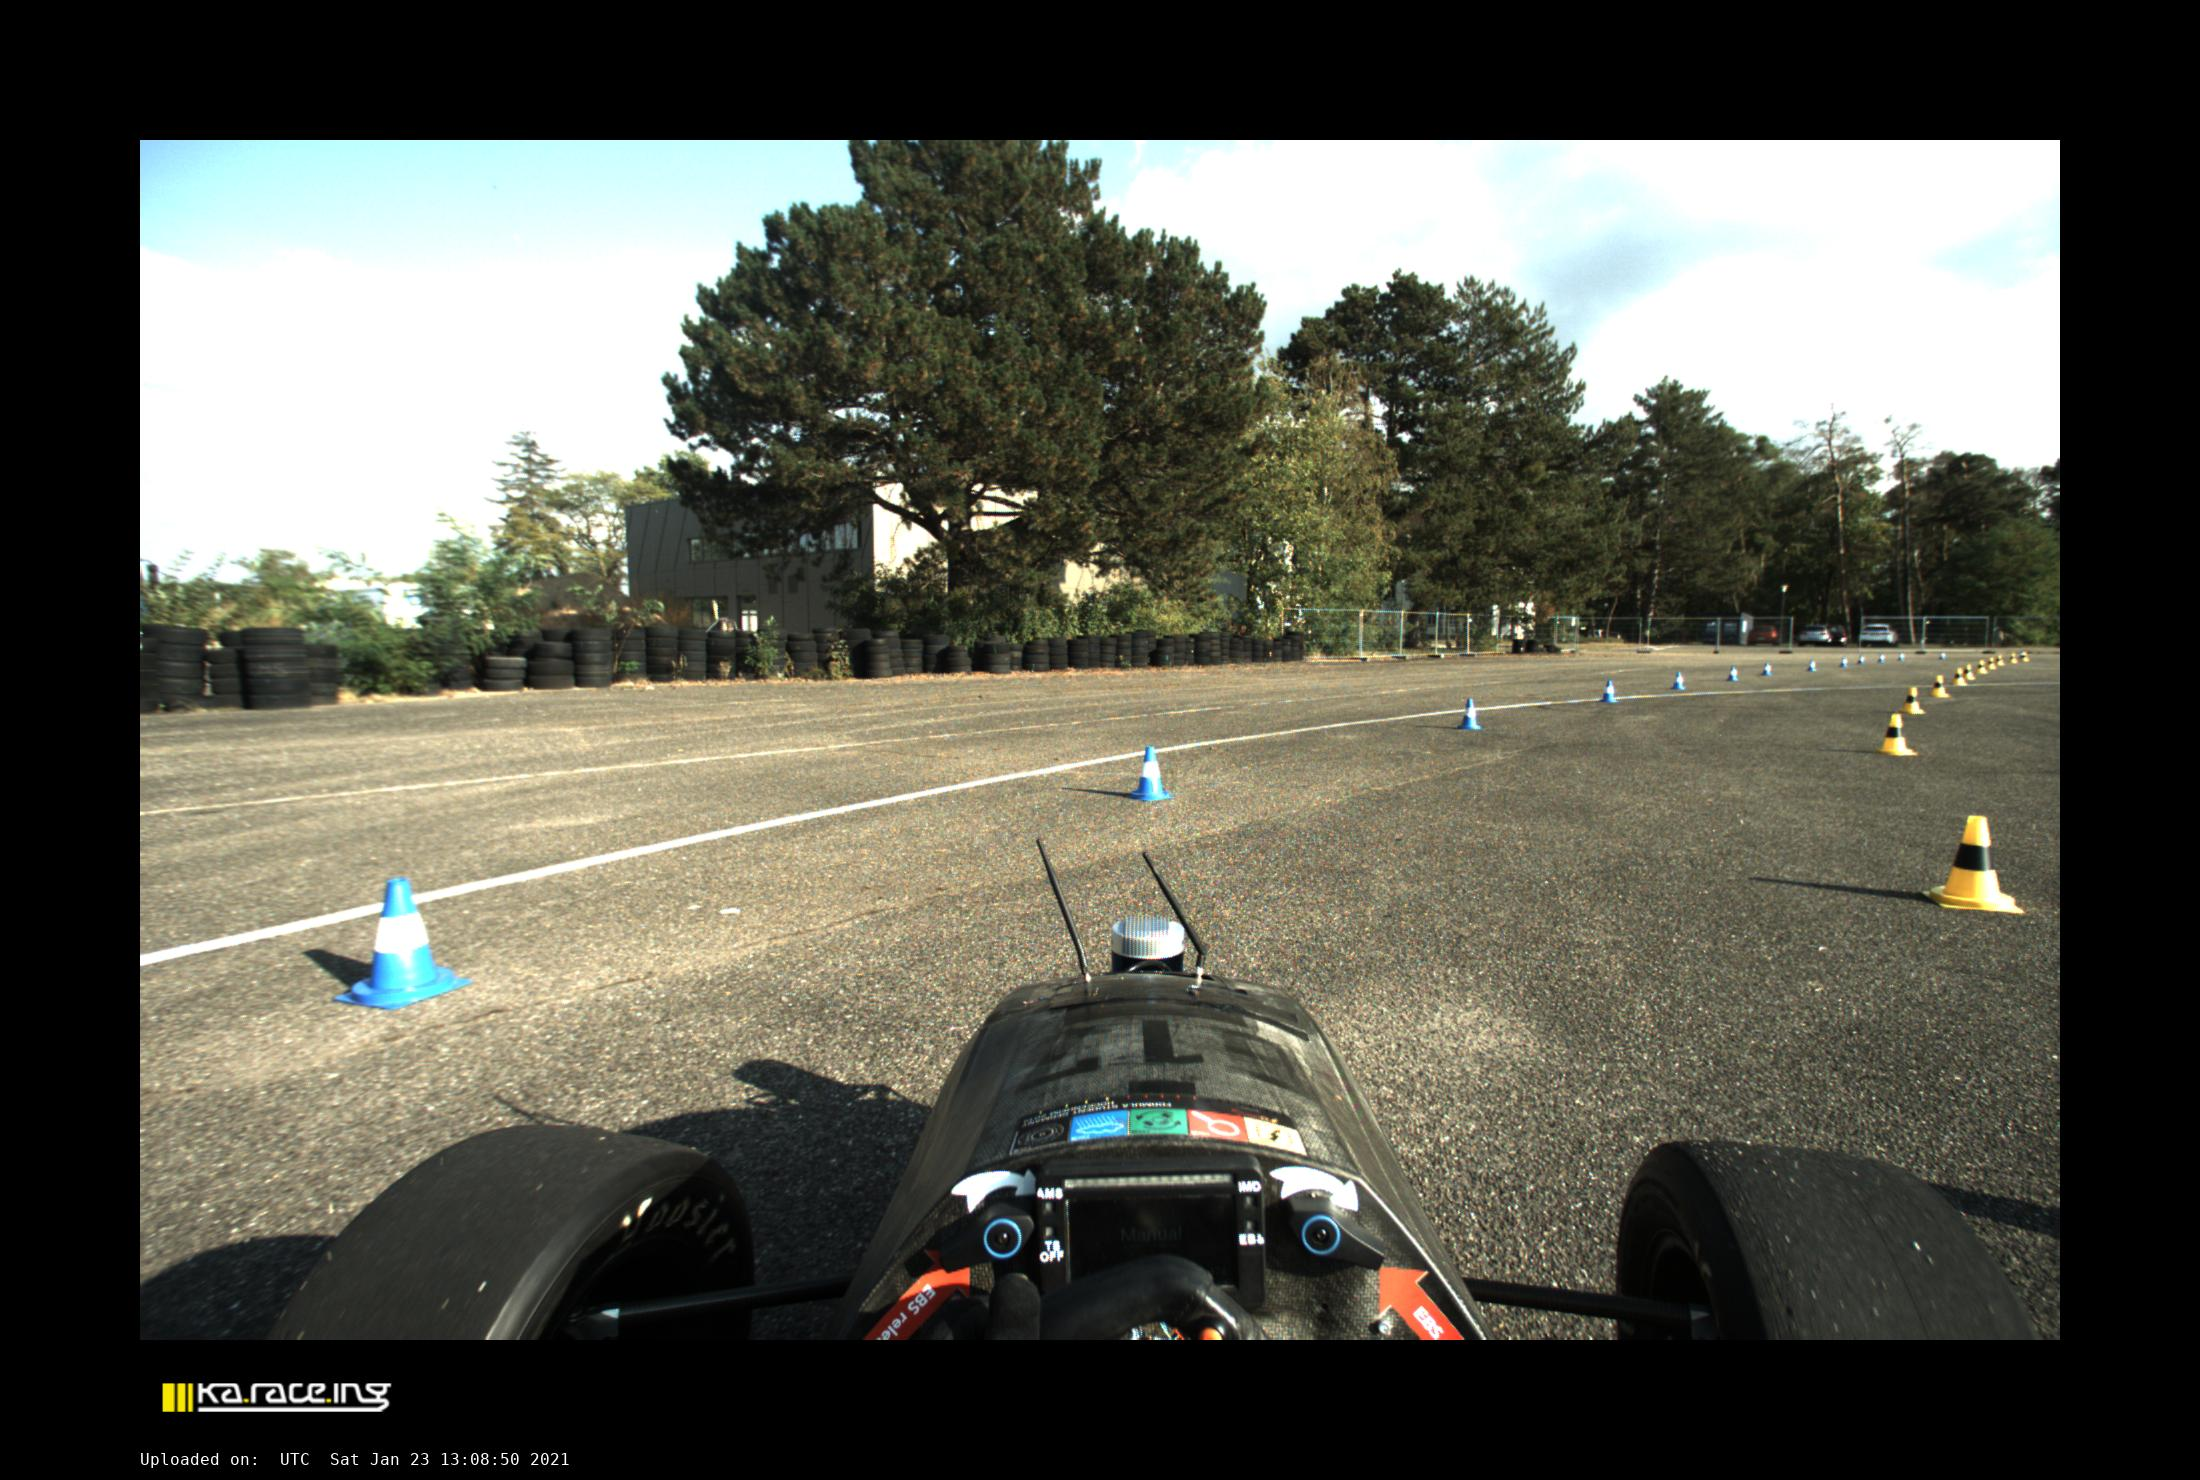blue_cone: (335, 879, 472, 1009), (1131, 747, 1174, 801), (1453, 699, 1483, 730), (1600, 681, 1619, 704), (1671, 671, 1685, 690), (1726, 666, 1739, 681), (1761, 662, 1771, 676), (1838, 657, 1850, 667), (1807, 659, 1817, 671), (1876, 651, 1885, 662), (1856, 654, 1865, 664), (1898, 651, 1904, 662), (1939, 651, 1946, 661)
yellow_cone: (1923, 814, 2025, 913), (1880, 714, 1918, 757), (1899, 685, 1927, 715), (1931, 676, 1951, 699), (1952, 667, 1969, 685), (1964, 662, 1975, 681), (1977, 659, 1989, 674), (1995, 652, 2007, 666), (1987, 657, 1998, 671), (2008, 652, 2018, 664), (2022, 651, 2030, 662)
